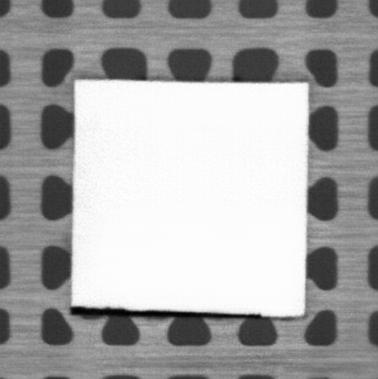DIE_BROKEN: (68, 304, 265, 320)
